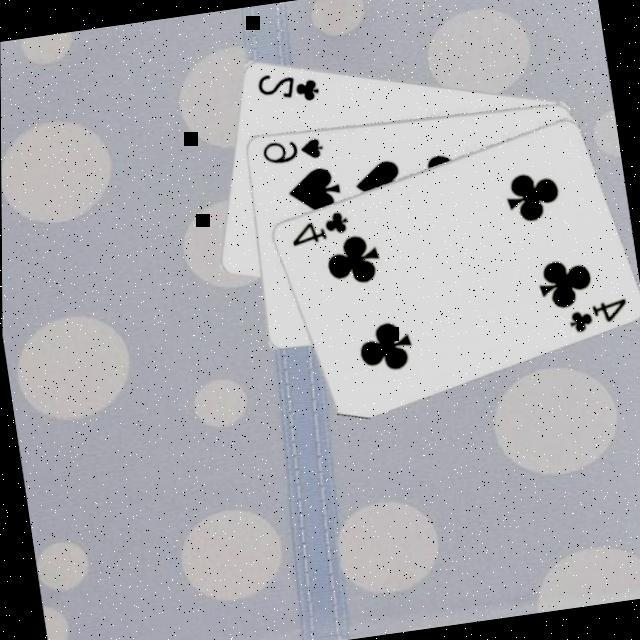2C: (252, 65, 324, 112)
4C: (563, 295, 633, 339), (285, 209, 353, 252)
9S: (258, 133, 328, 170)
